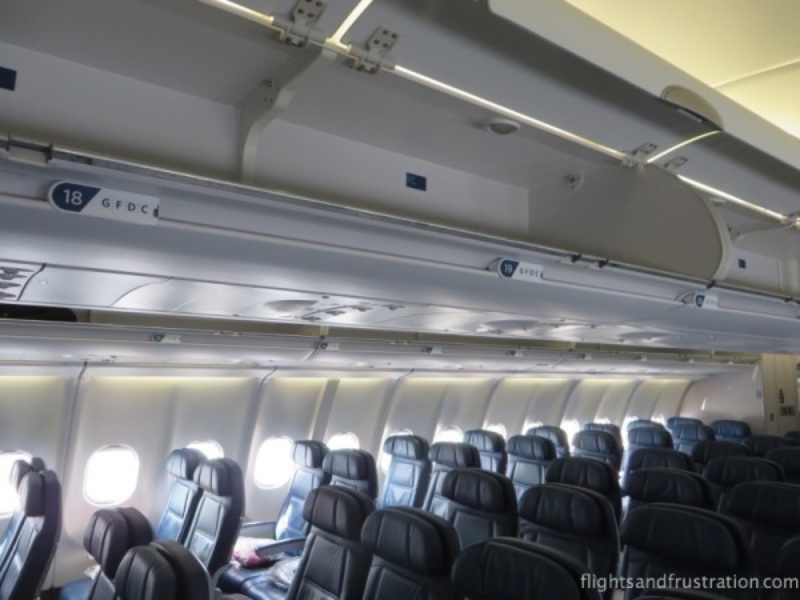open_bin: (267, 33, 731, 295), (1, 3, 349, 194), (700, 78, 800, 322)
